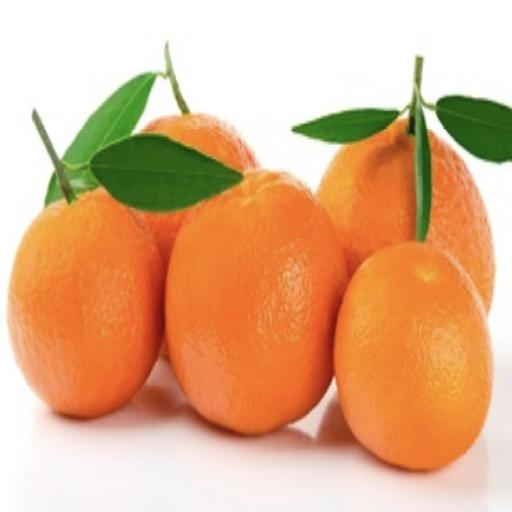orange: (166, 170, 347, 434), (335, 242, 492, 470), (8, 189, 165, 417), (317, 119, 416, 274), (141, 113, 259, 171)
